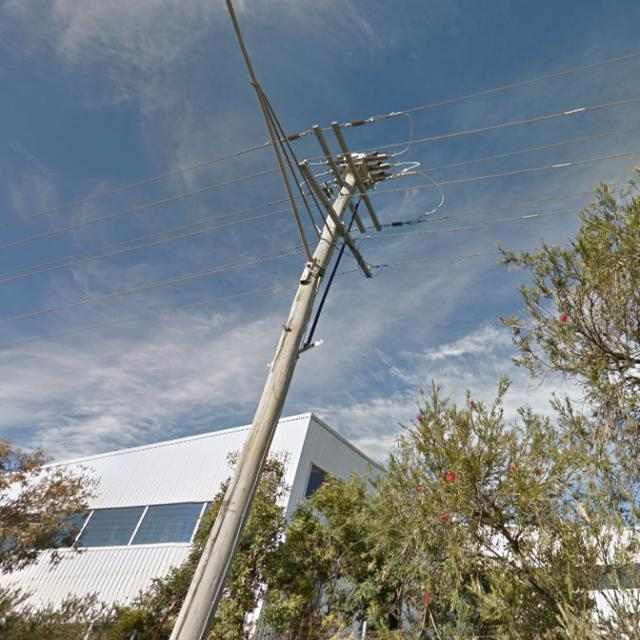HV-switch: (327, 150, 392, 190)
HV-transmission: (288, 118, 402, 233)
crossarm: (300, 162, 372, 279), (314, 120, 381, 234)
timber-pole: (168, 153, 370, 638)
